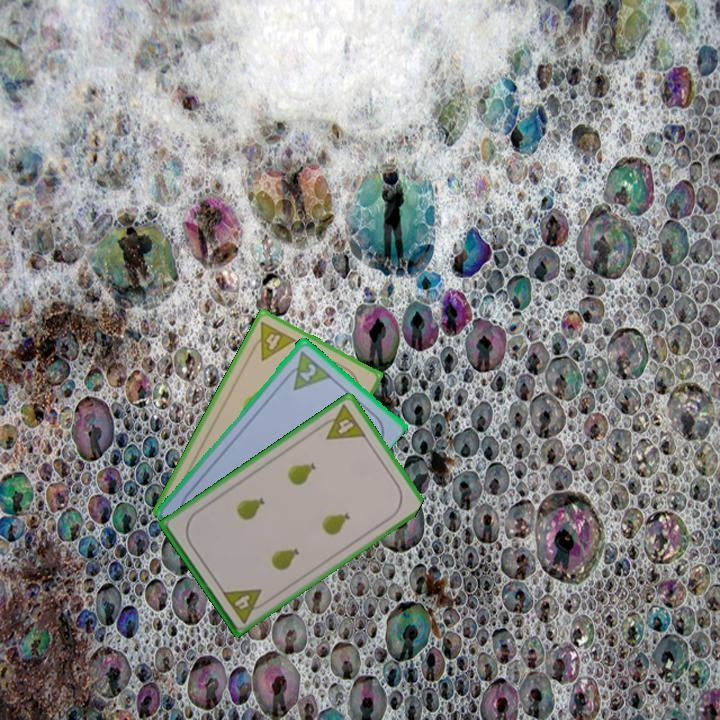2p: (280, 346, 333, 393)
4p: (246, 318, 299, 363), (315, 400, 369, 443), (218, 585, 271, 626)
